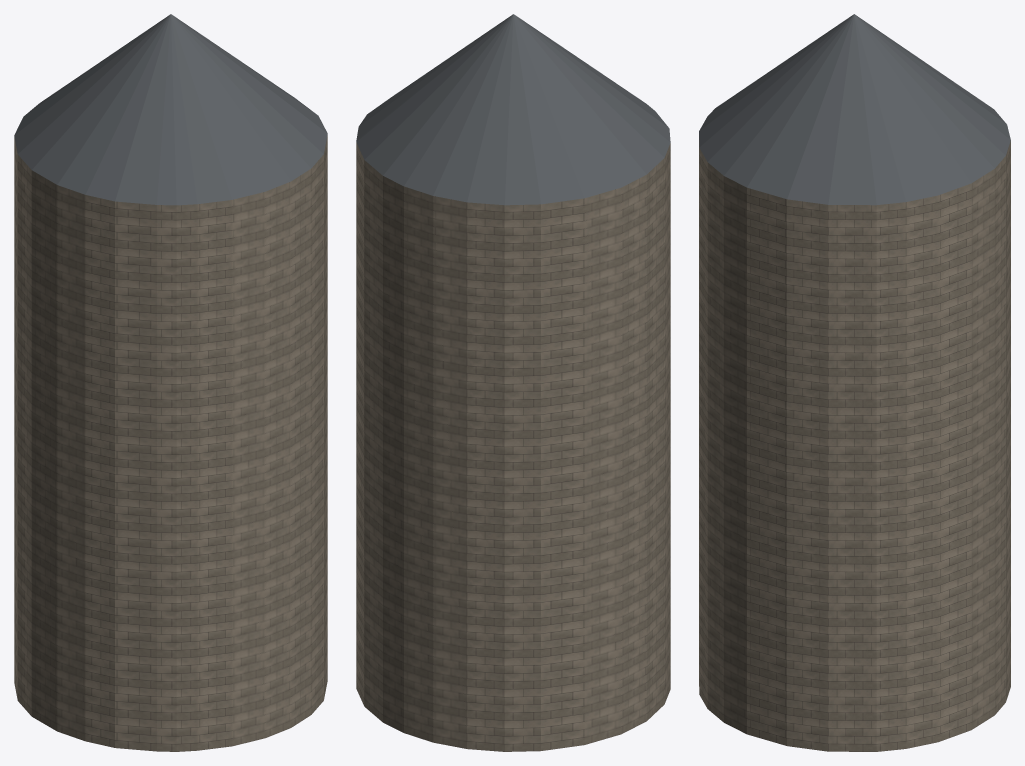
The model's file is fosso.glb.
The picture shows the model from 3 angles, left to right: view 1: azimuth 30°, elevation 25°; view 2: azimuth 150°, elevation 25°; view 3: azimuth 270°, elevation 25°; orthographic projection.
Visible parts, largest first — view 1: Prasna_vez; view 2: Prasna_vez; view 3: Prasna_vez.
Part boxes in pixels (bbox=[...]): Prasna_vez: bbox=[14, 14, 327, 751]; Prasna_vez: bbox=[356, 14, 670, 751]; Prasna_vez: bbox=[699, 14, 1010, 751].
Bounding box in the file's own units: 18.16 × 42.94 × 18.06.
2 materials, 1 textured.
